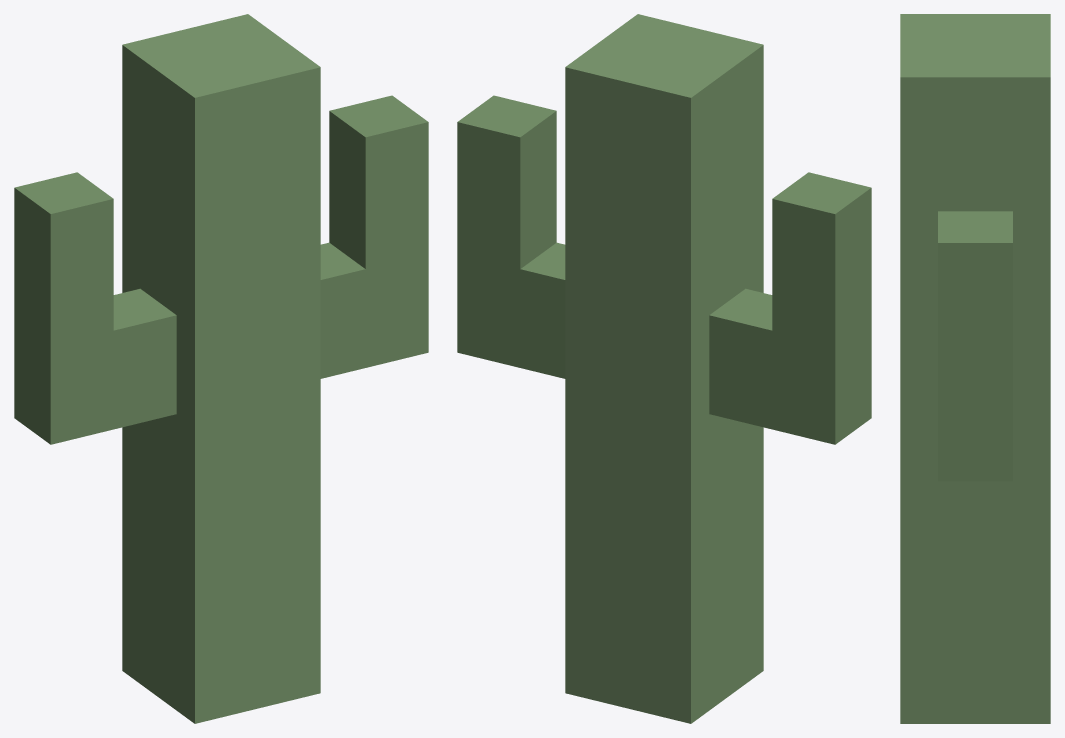
Rendered from saguaro_01.glb.
The picture shows the model from 3 angles, left to right: view 1: azimuth 30°, elevation 25°; view 2: azimuth 150°, elevation 25°; view 3: azimuth 270°, elevation 25°; orthographic projection. The views are drawn at different scales.
Parts seen in each view (by area): view 1: saguaro_01; view 2: saguaro_01; view 3: saguaro_01.
Boxes of the visible parts, x1,y1,x2,y2 form: saguaro_01: (14,14,428,723); saguaro_01: (457,14,871,723); saguaro_01: (900,14,1050,723).
Bounding box in the file's own units: 1.2 × 1.9 × 0.4.
